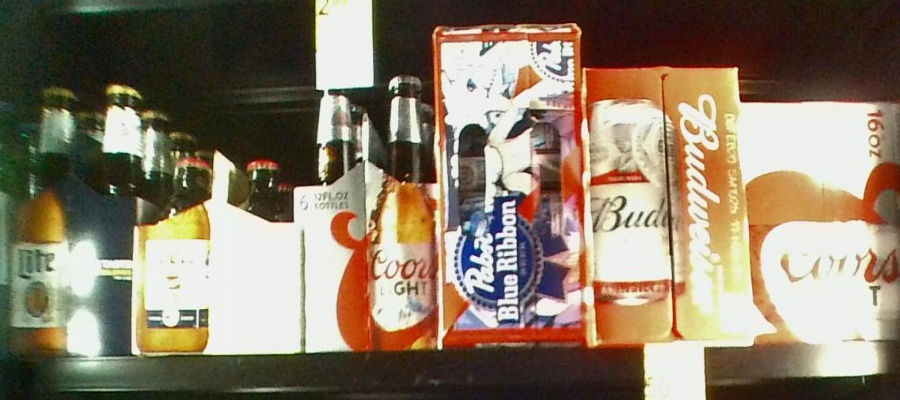bottle: (431, 20, 593, 349), (584, 65, 754, 343), (306, 72, 440, 352), (741, 103, 900, 336), (12, 80, 135, 360), (140, 149, 302, 356)
